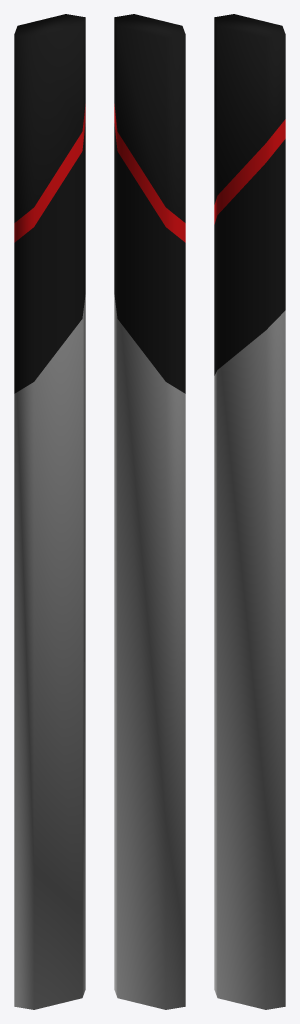
The model's file is sheath.fbx.
The picture shows the model from 3 angles, left to right: view 1: azimuth 30°, elevation 25°; view 2: azimuth 150°, elevation 25°; view 3: azimuth 330°, elevation 25°; orthographic projection.
Visible parts, largest first — view 1: Cube.032; view 2: Cube.032; view 3: Cube.032.
Part boxes in pixels (left/top/right/bottom): Cube.032: left=14, top=14, right=85, bottom=1009; Cube.032: left=114, top=14, right=185, bottom=1009; Cube.032: left=214, top=14, right=285, bottom=1009.
Size of the model in its own units: 7.67 by 99.62 by 3.09.
